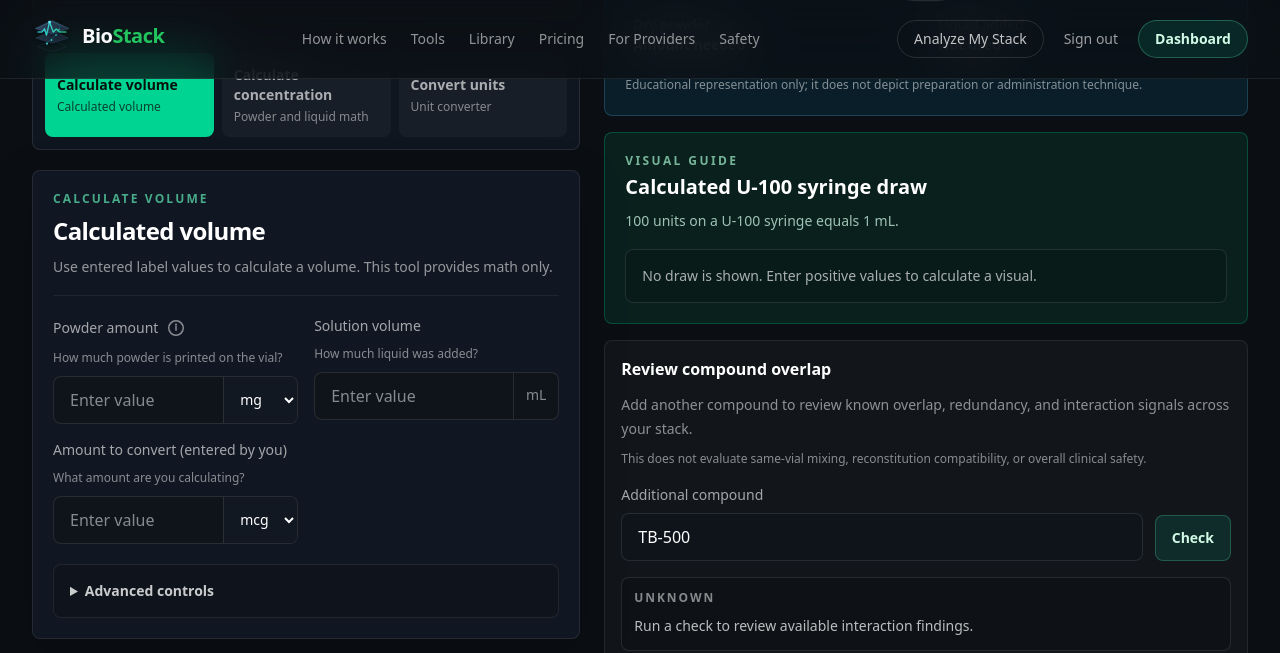
Test: "Track this in my stack" does not write calculator output into the record › creates the compound with generic notes only, even with a calculated draw on screen
(page scrolled)
Type "5" into the number field named "Powder amount" at (139, 400), box [54,376,223,422]
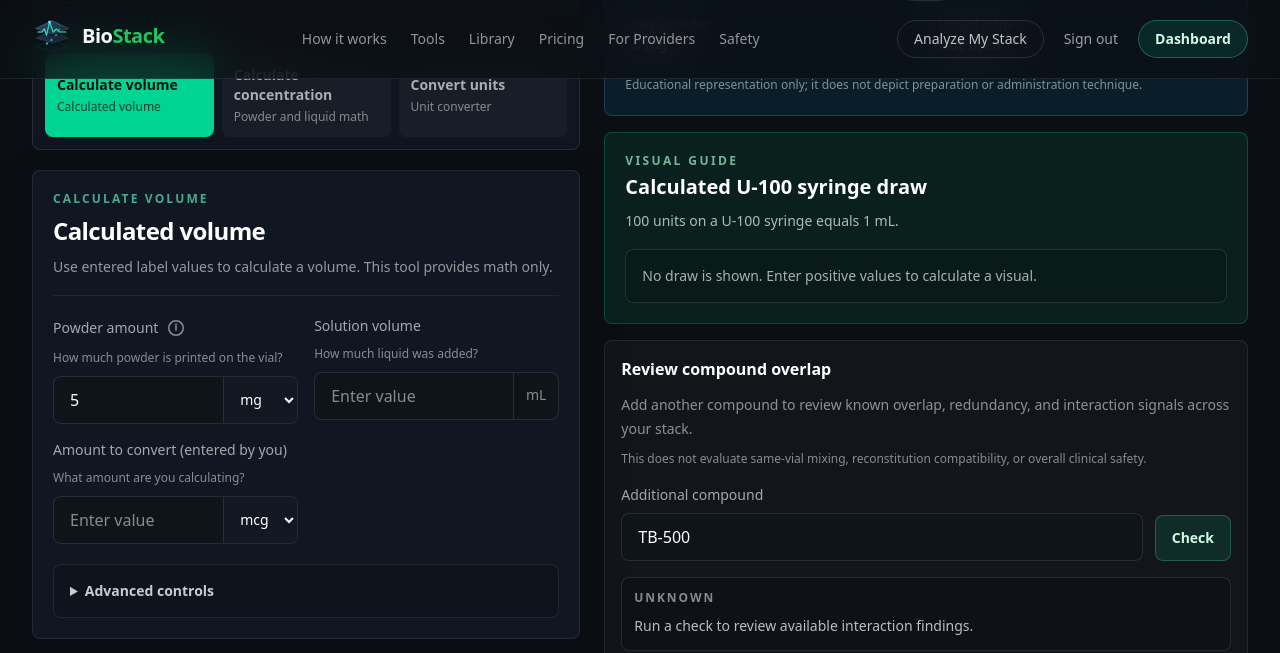
Type "2" into the number field labelled "Solution volume How much liquid was added? mL" at (414, 396), box [315,372,513,418]
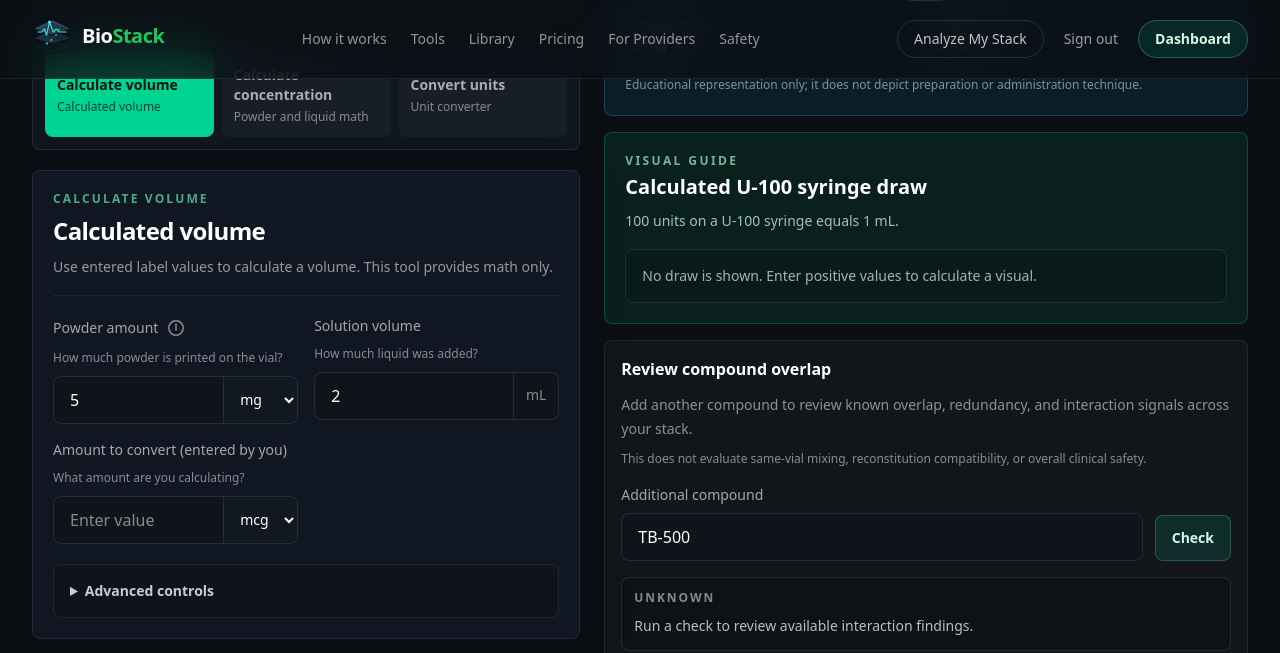
Type "250" into the 3rd number field at (139, 520), box [54,496,223,542]
(page scrolled)
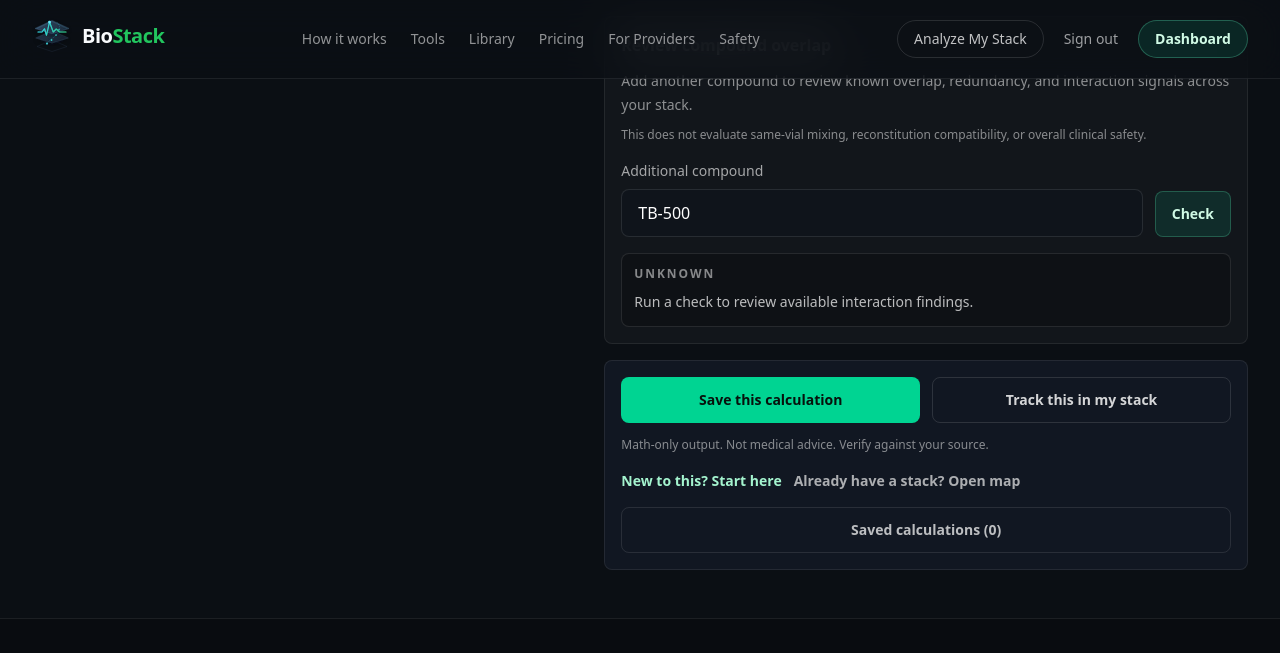
Click the button "Track this in my stack" at (1082, 400), box [932,377,1231,423]
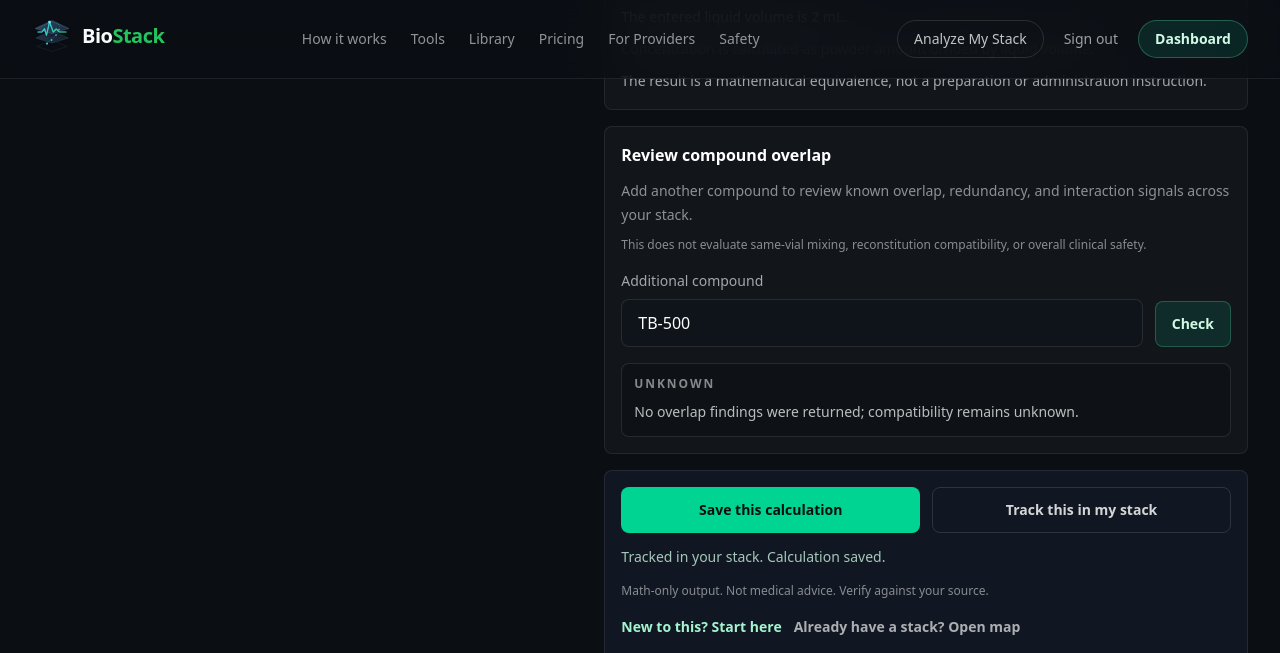
Now the text "Tracked in your stack. Calculation saved." is shown, box [621,547,885,566]
